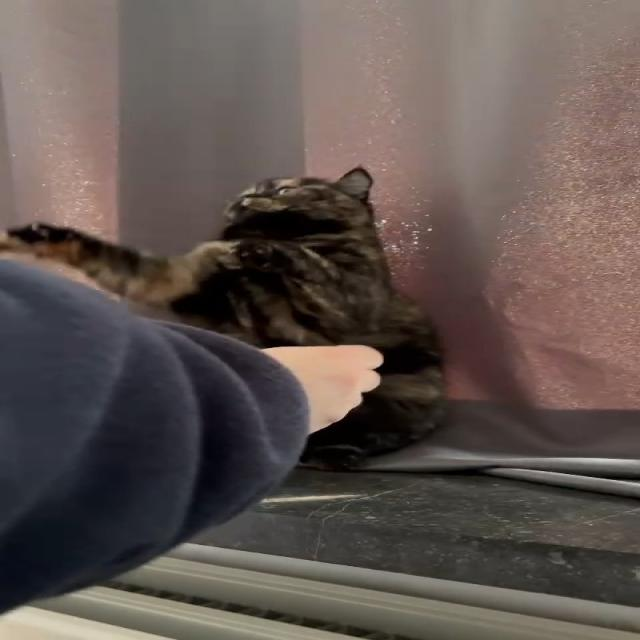authorized: (0, 165, 448, 470)
